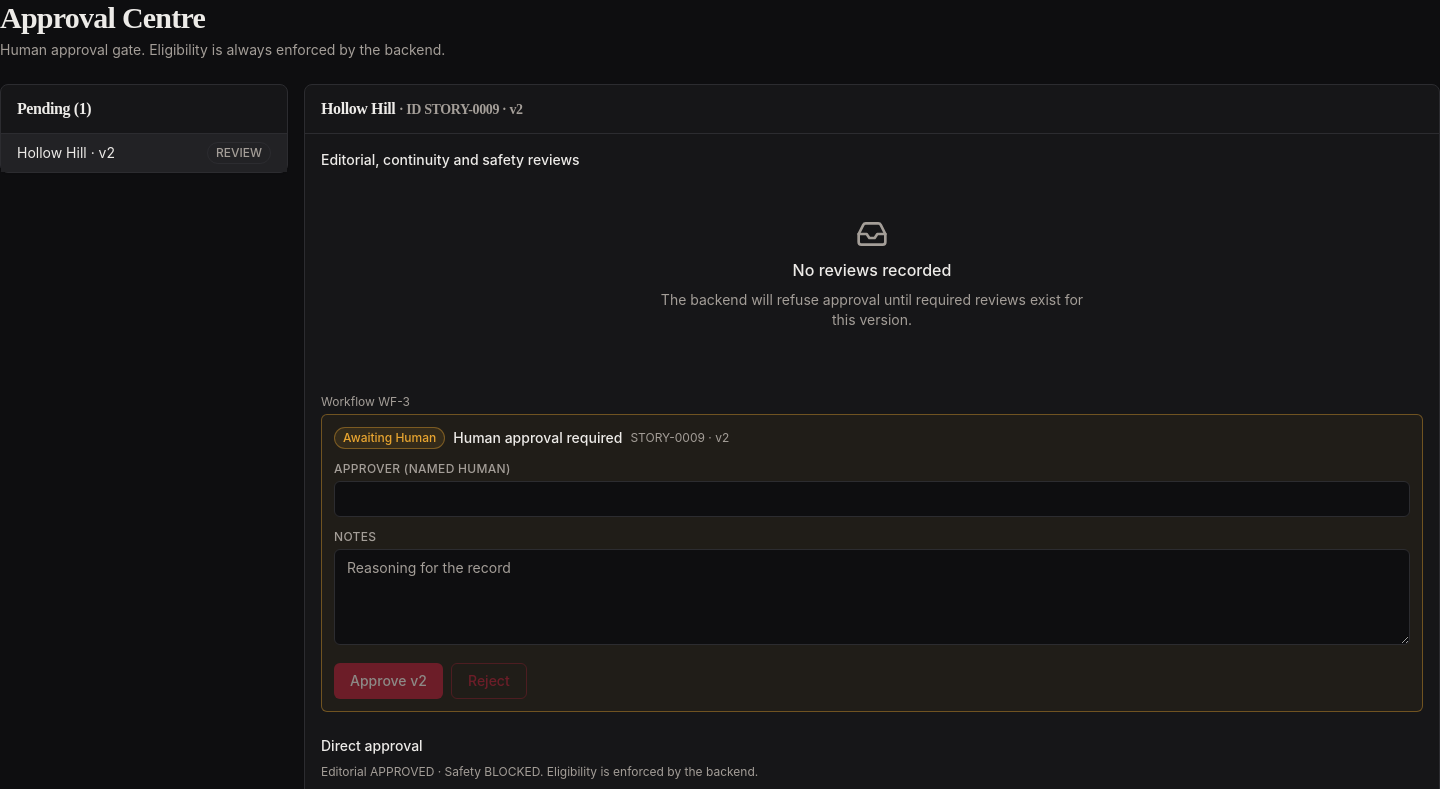
ApprovalCentrePage › requires a named approver for a human_approval interrupt and sends {decision, approver}
The width and height of the screenshot is (1440, 789).
Expected: the button "Approve v2" is disabled, [334,663,443,699]
Type "Sam" into the field labelled "Approver (named human)" at point(872, 499), box [334,481,1410,517]
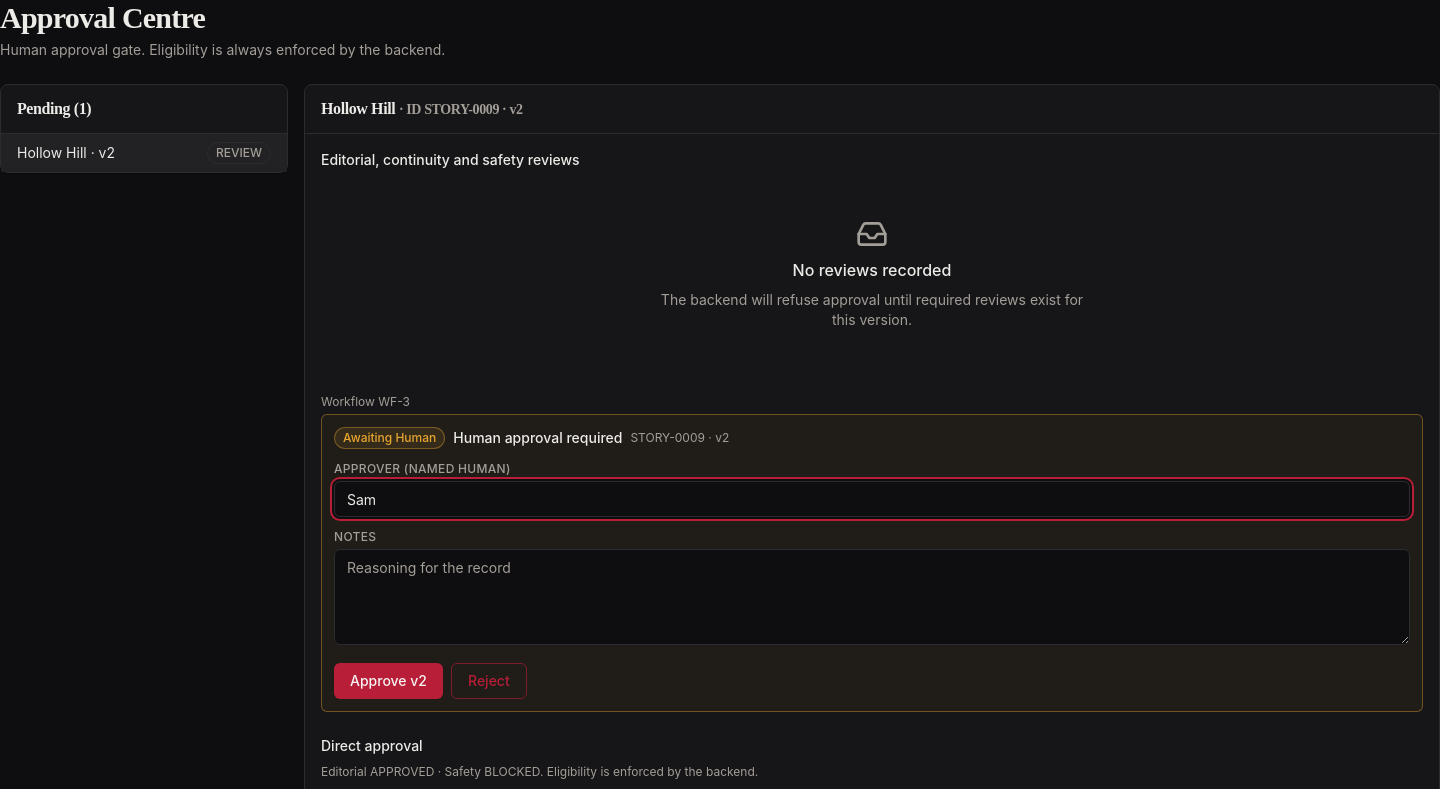
Click the button "Approve v2" at point(388, 681), box [334,663,443,699]
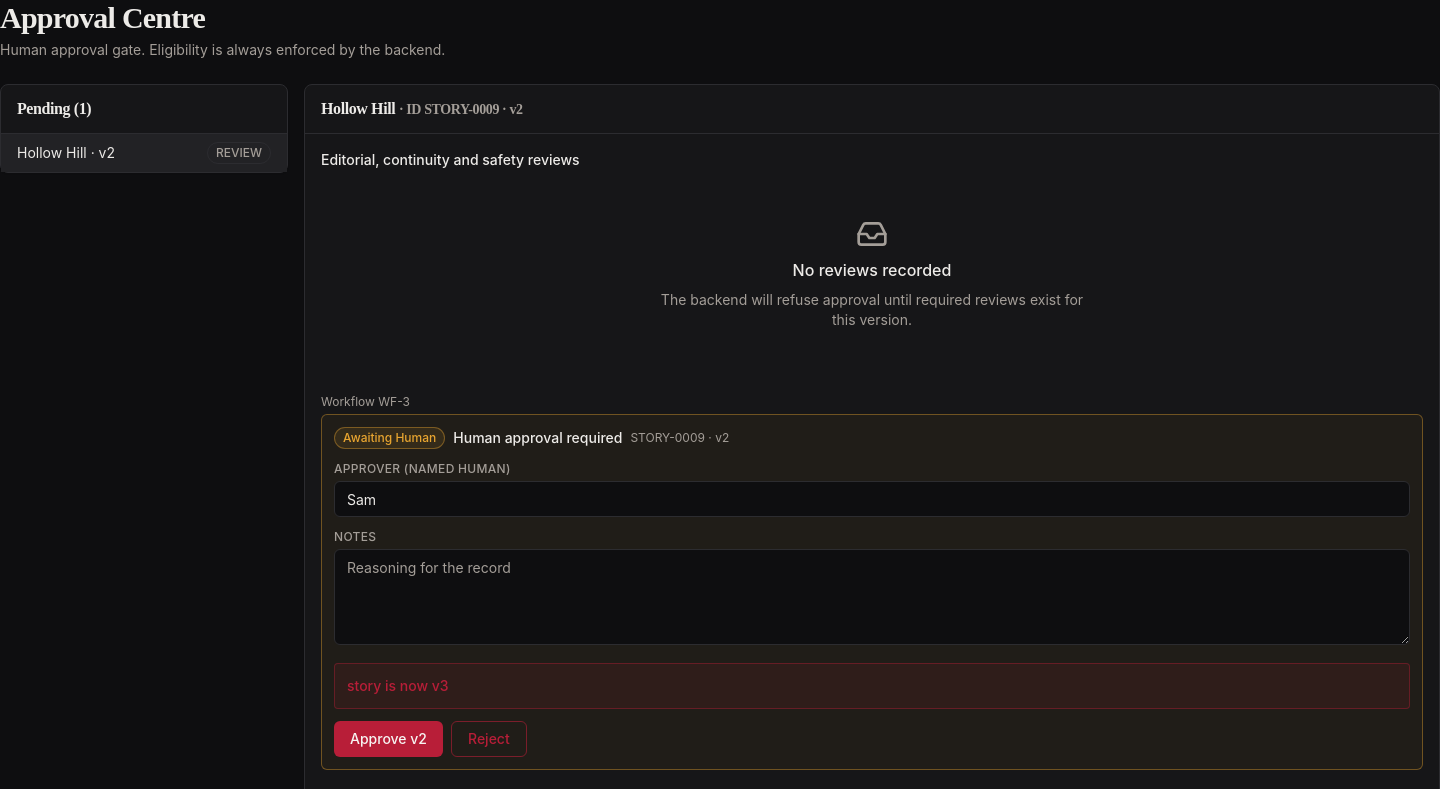
Result: the text "story is now v3" is shown at [347,677,449,694]
